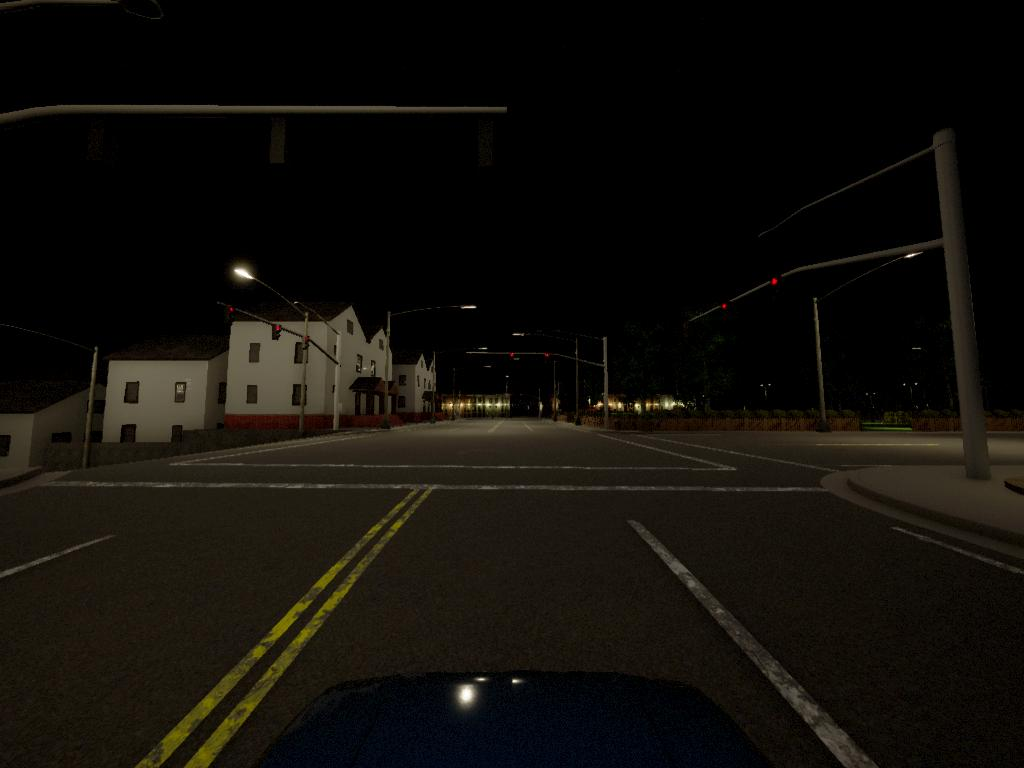traffic_light: (226, 304, 235, 324), (771, 277, 781, 294), (721, 303, 729, 320), (273, 325, 282, 340), (303, 337, 310, 352), (681, 324, 688, 337), (544, 353, 552, 363), (510, 352, 516, 364)
